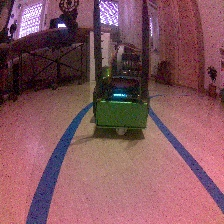rob: (91, 51, 149, 136)
